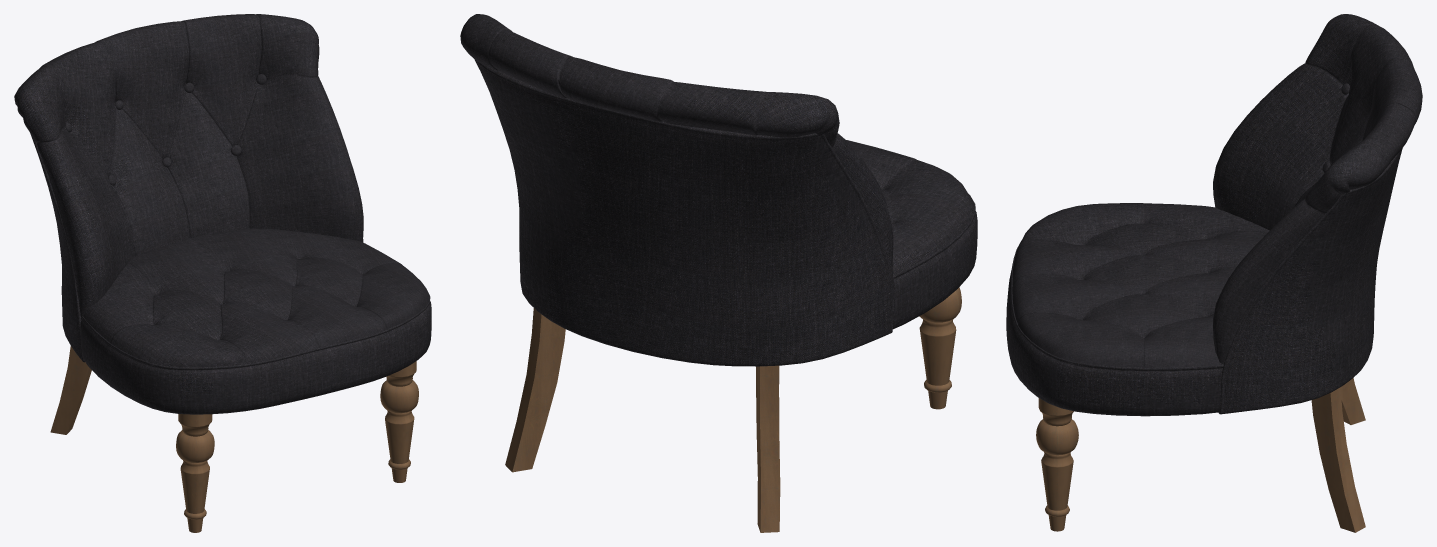
File: example54.gltf
The picture shows the model from 3 angles, left to right: view 1: azimuth 30°, elevation 25°; view 2: azimuth 150°, elevation 25°; view 3: azimuth 270°, elevation 25°; orthographic projection. The views are drawn at different scales.
Visible parts, largest first — view 1: Object_3, Object_2, Object_4; view 2: Object_2, Object_3, Object_4; view 3: Object_2, Object_3, Object_4.
Part boxes in pixels (x1,y1,x2,y2): Object_3: [14, 14, 363, 320]; Object_2: [30, 83, 431, 414]; Object_4: [50, 346, 418, 532]; Object_2: [474, 59, 977, 366]; Object_3: [460, 14, 893, 274]; Object_4: [505, 287, 961, 532]; Object_2: [1006, 148, 1402, 416]; Object_3: [1213, 14, 1422, 364]; Object_4: [1036, 378, 1365, 532].
Size of the model in its own units: 62.47 by 71.45 by 68.29.
2 materials, 2 textured.
